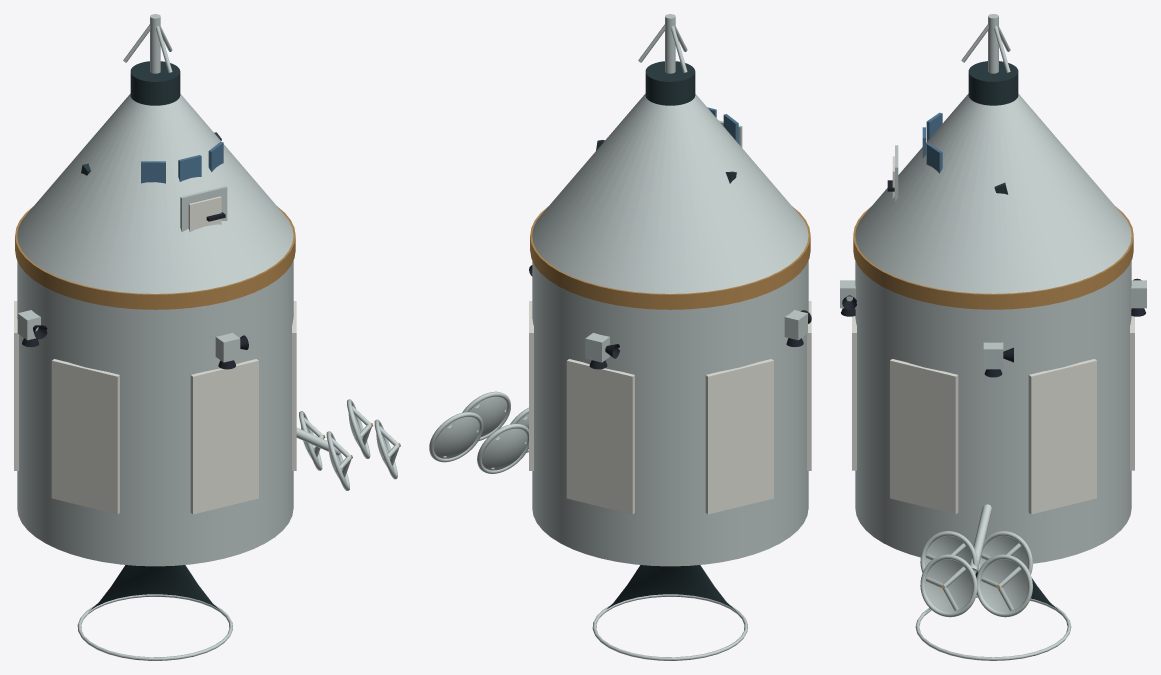
The model's file is apollo-csm.glb.
3 views of the same model, side by side, from view 1: azimuth 30°, elevation 25°; view 2: azimuth 150°, elevation 25°; view 3: azimuth 270°, elevation 25° (orthographic).
Parts seen in each view (by area): view 1: service, crew, propulsion, heatshield, docking, antenna (×3); view 2: service, crew, propulsion, heatshield, reflector (×3), docking, antenna (×2); view 3: service, crew, heatshield, reflector (×4), antenna (×5), propulsion, docking.
Part boxes in pixels (x1,y1,x2,y2): service: [14, 260, 296, 566]; crew: [17, 93, 293, 293]; propulsion: [17, 310, 248, 660]; heatshield: [15, 206, 295, 309]; docking: [123, 14, 180, 105]; antenna (×3): [326, 399, 400, 490]; service: [529, 260, 811, 566]; crew: [532, 93, 808, 293]; propulsion: [529, 265, 811, 660]; heatshield: [530, 206, 810, 309]; reflector (×3): [434, 396, 527, 470]; docking: [638, 14, 695, 105]; antenna (×2): [429, 412, 528, 473]; service: [852, 261, 1134, 563]; crew: [855, 93, 1131, 293]; heatshield: [853, 207, 1133, 309]; reflector (×4): [925, 536, 1028, 612]; antenna (×5): [920, 504, 1032, 617]; propulsion: [840, 278, 1146, 660]; docking: [961, 14, 1018, 105].
Bounding box in the file's own units: 2.98 × 4.89 × 2.22.
